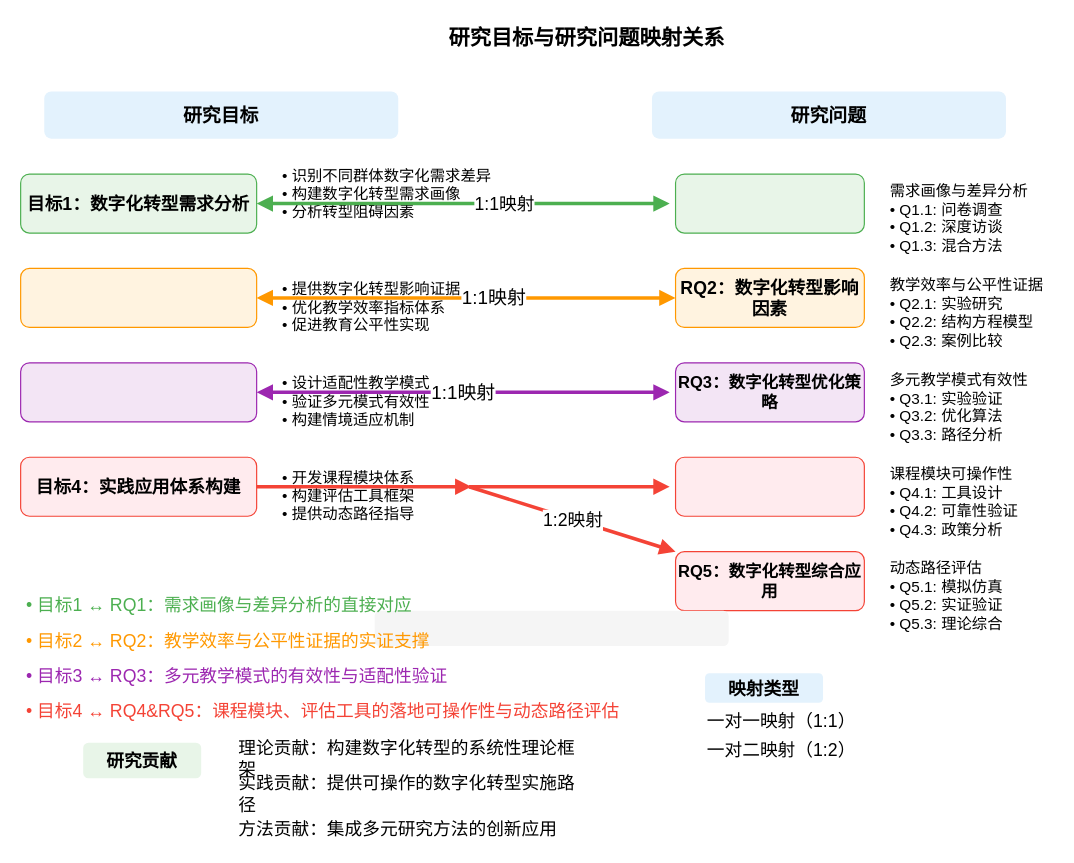
Image size: 1074x863. Some labels were removed from this diagram. Each missing label, with the centre of its shape:
RQ1：数字化转型现状: the point at 769,203
RQ4：数字化转型评估工具: the point at 769,486
映射关系说明: the point at 551,627
目标2：教学效率与公平性提升: the point at 138,297
目标3：多元教学模式设计: the point at 138,392
